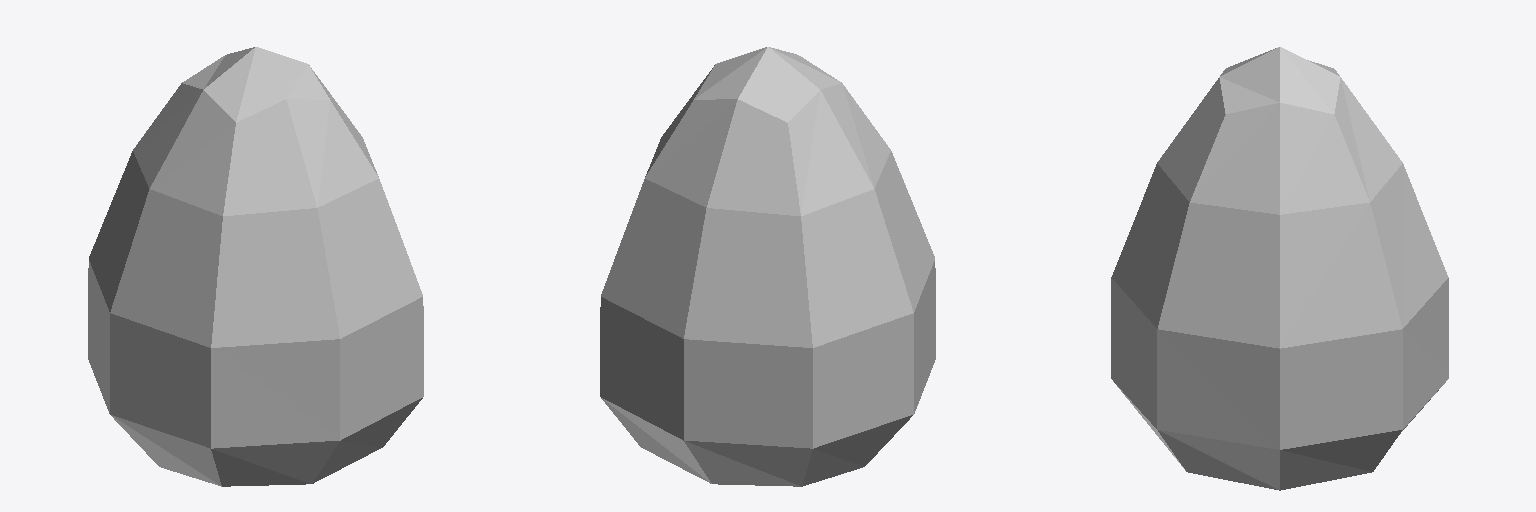
Rendered from cake_birthday_slice_candle_fire.obj.
The picture shows the model from 3 angles: view 1: azimuth 30°, elevation 25°; view 2: azimuth 150°, elevation 25°; view 3: azimuth 270°, elevation 25°; orthographic projection.
Visible parts, largest first — view 1: cake_birthday_slice_candle_fire; view 2: cake_birthday_slice_candle_fire; view 3: cake_birthday_slice_candle_fire.
Boxes of the visible parts, x1,y1,x2,y2 form: cake_birthday_slice_candle_fire: [88, 47, 423, 486]; cake_birthday_slice_candle_fire: [600, 47, 935, 486]; cake_birthday_slice_candle_fire: [1111, 47, 1448, 490].
Size of the model in its own units: 0.078 by 0.1067 by 0.078.